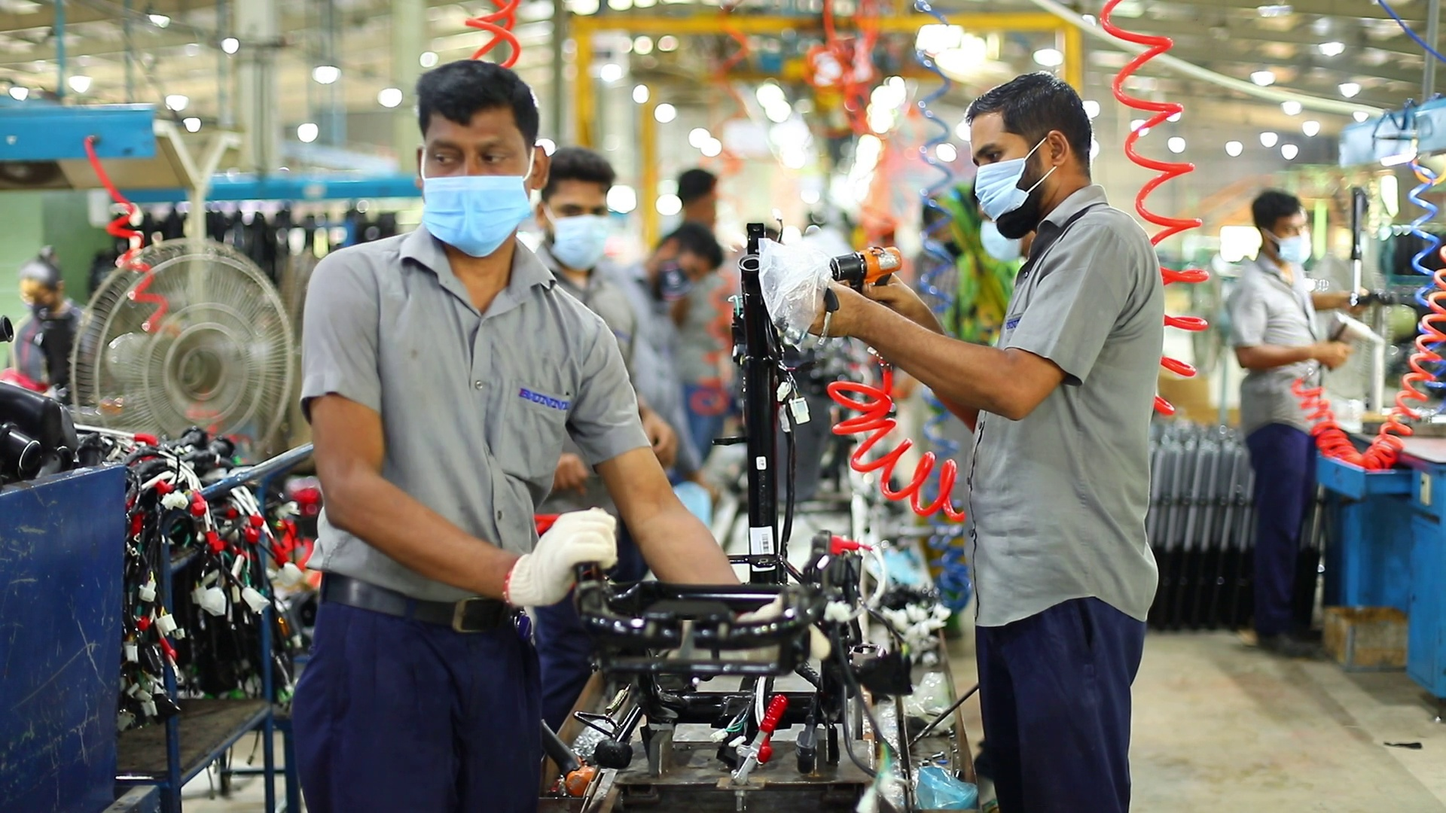mask: (420, 175, 537, 259), (975, 159, 1030, 222), (553, 215, 610, 268), (1278, 237, 1312, 266)
person: (292, 60, 752, 803), (798, 75, 1167, 811), (1221, 187, 1373, 656), (530, 147, 696, 502), (627, 223, 737, 473), (8, 260, 83, 402), (674, 169, 727, 245)
